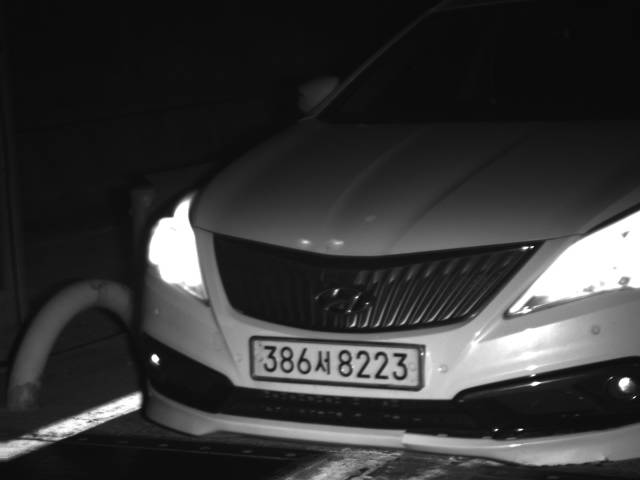car: (137, 19, 639, 467)
plate: (249, 335, 425, 391)
